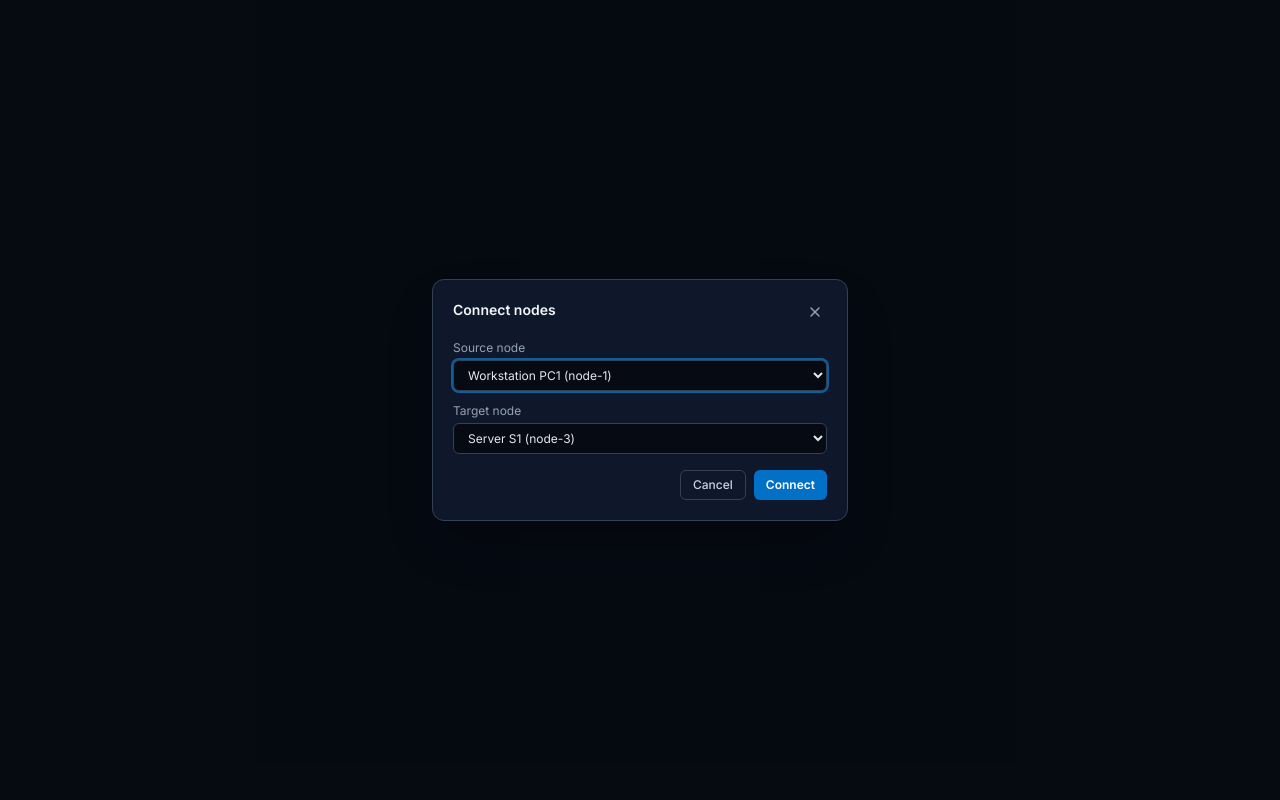
it: Keyboard connection workflow (ConnectDialog) › surfaces authoritative backend errors inline and keeps the dialog open
The width and height of the screenshot is (1280, 800).
Click the button with test id "connect-dialog-confirm" at [790, 485], box [754,470,827,500]
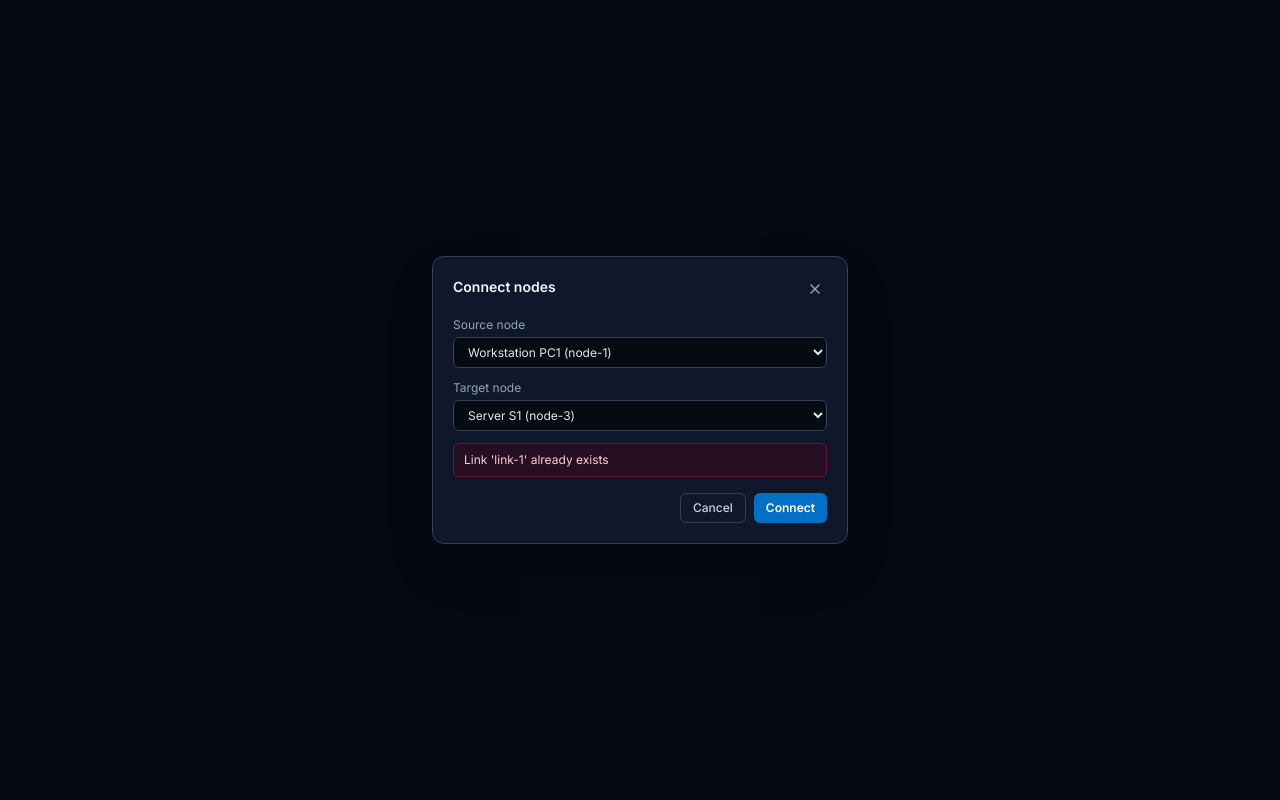
Expected: the dialog with test id "connect-dialog" is shown, [432,256,848,544]
Result: the message reads "Link 'link-1' already exists" at [464,452,609,467]
